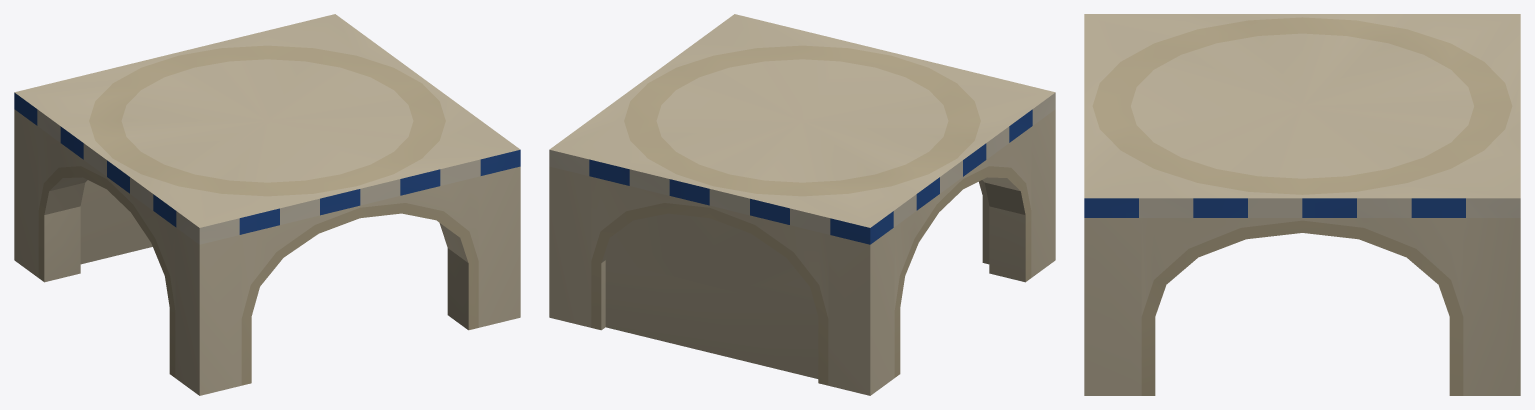
The model's file is dome.arch_3way.blue.glb.
3 renders of one model, left to right at view 1: azimuth 30°, elevation 25°; view 2: azimuth 150°, elevation 25°; view 3: azimuth 270°, elevation 25°, orthographic. The views are drawn at different scales.
Parts seen in each view (by area): view 1: dome_arch_3way_blue; view 2: dome_arch_3way_blue; view 3: dome_arch_3way_blue.
Boxes of the visible parts, x1,y1,x2,y2 form: dome_arch_3way_blue: [14, 14, 520, 395]; dome_arch_3way_blue: [549, 14, 1055, 395]; dome_arch_3way_blue: [1084, 14, 1520, 395].
Size of what is drawn, in the model's own units: 8 by 4 by 8.
